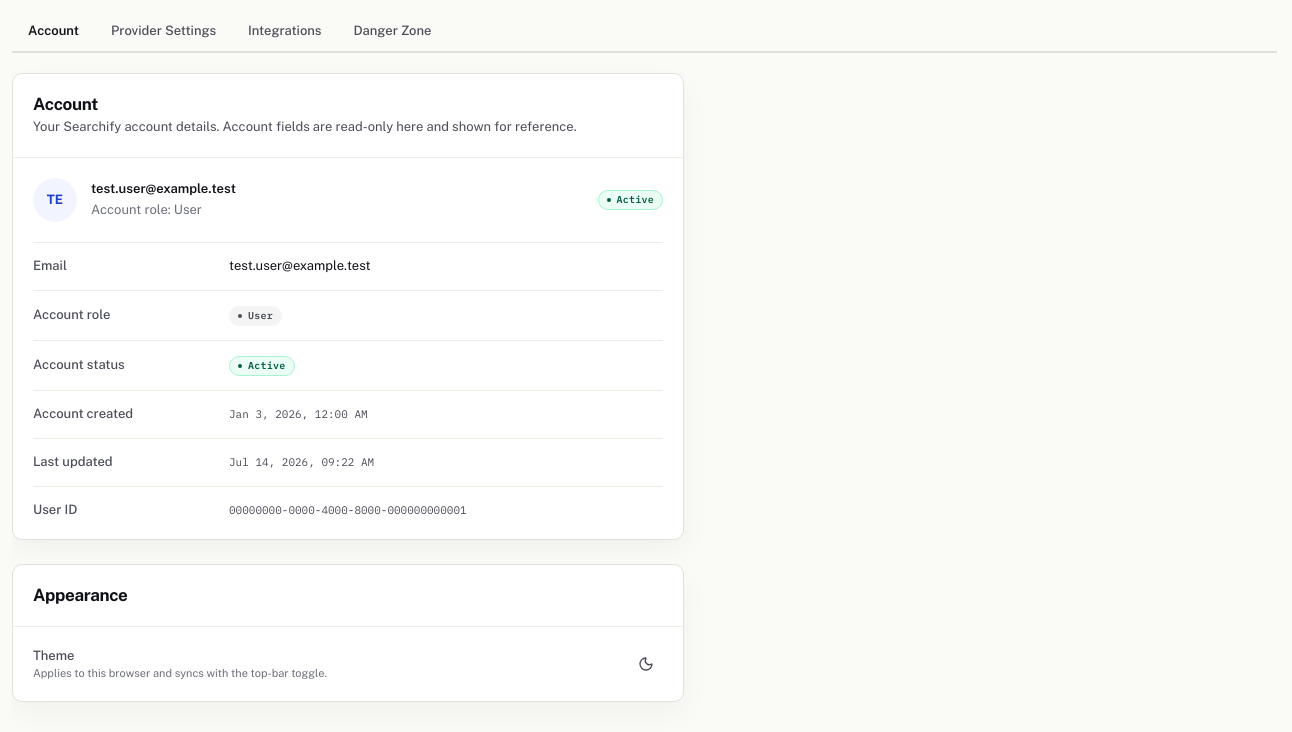
Test case: SettingsScreen › shows the danger zone with the active project name on the Danger Zone tab
The width and height of the screenshot is (1292, 732).
Click the tab "Danger Zone" at (392, 32), box [337,12,447,53]
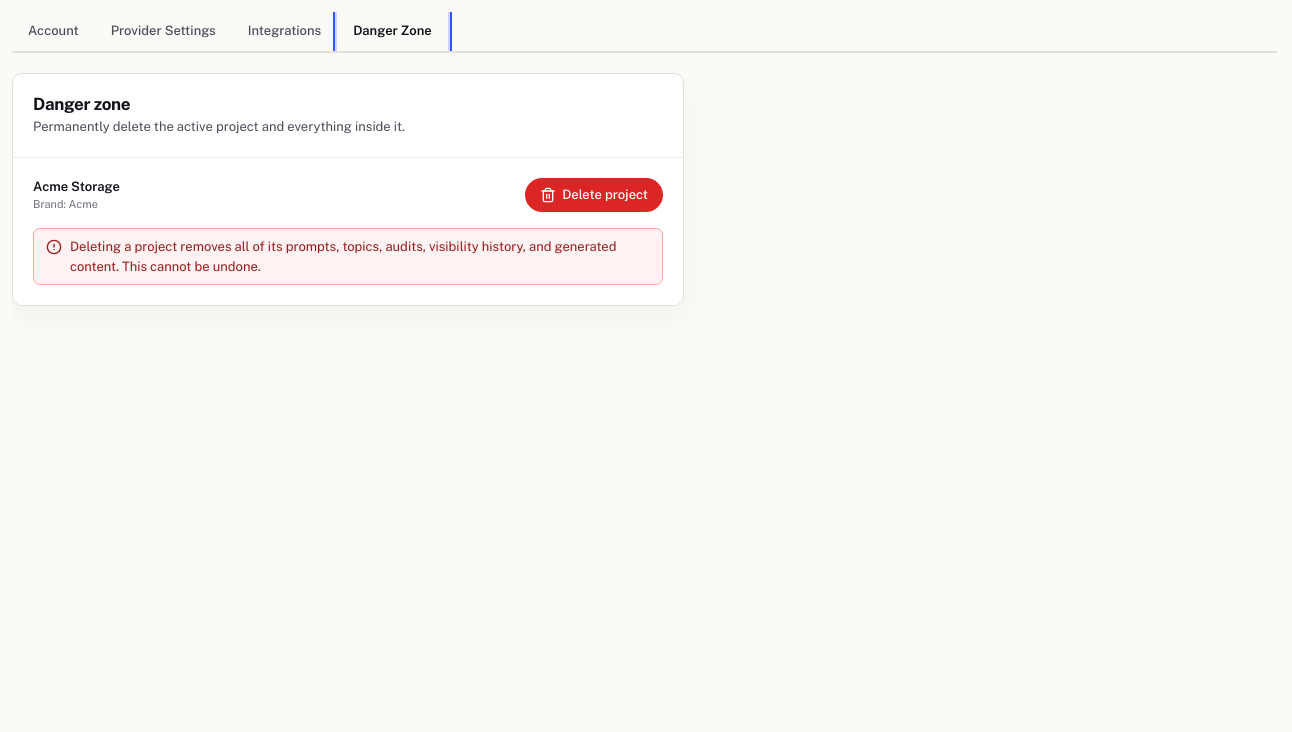
Check: the heading "Danger zone" is shown, box [33,94,130,114]
Check: the text "Acme Storage" is shown, box [33,178,120,197]
Check: the button "Delete project" is shown, box [525,178,663,212]
